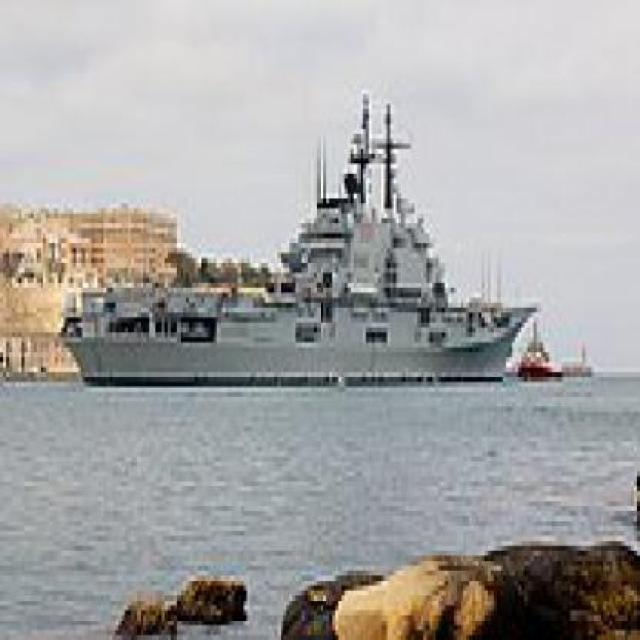warship2: (68, 75, 543, 398)
